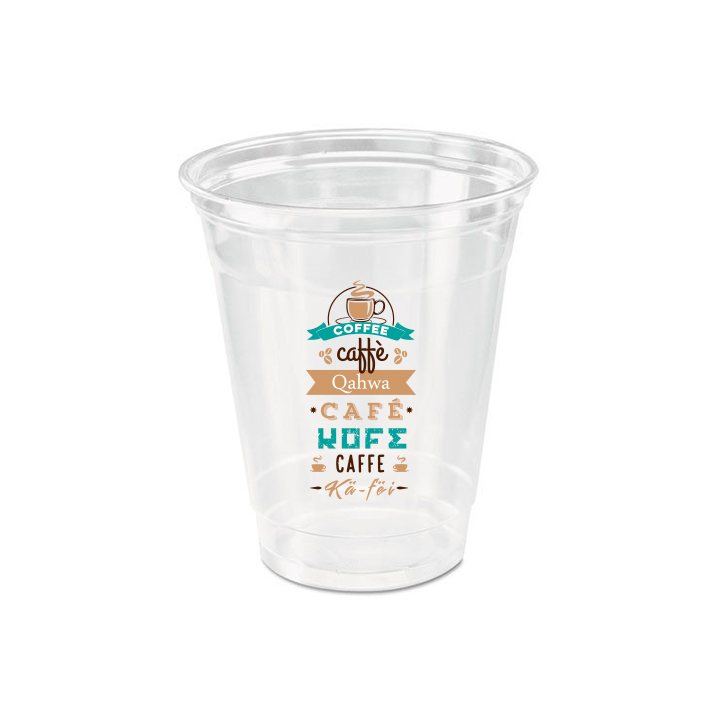plastic_glass: (173, 121, 548, 601)
